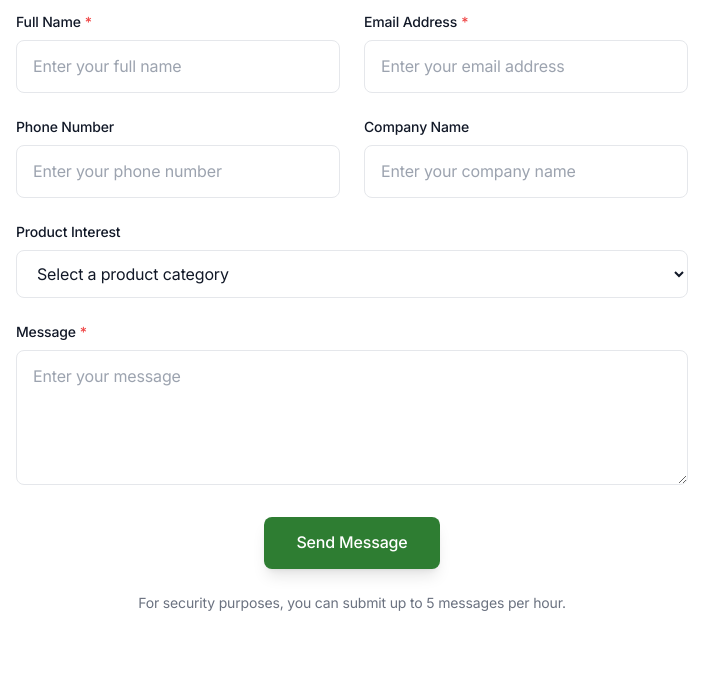
Scenario: ContactForm Component › validates required fields on submit
Click the button "Send Message" at coordinates (352, 543), box 264,517 -> 440,568
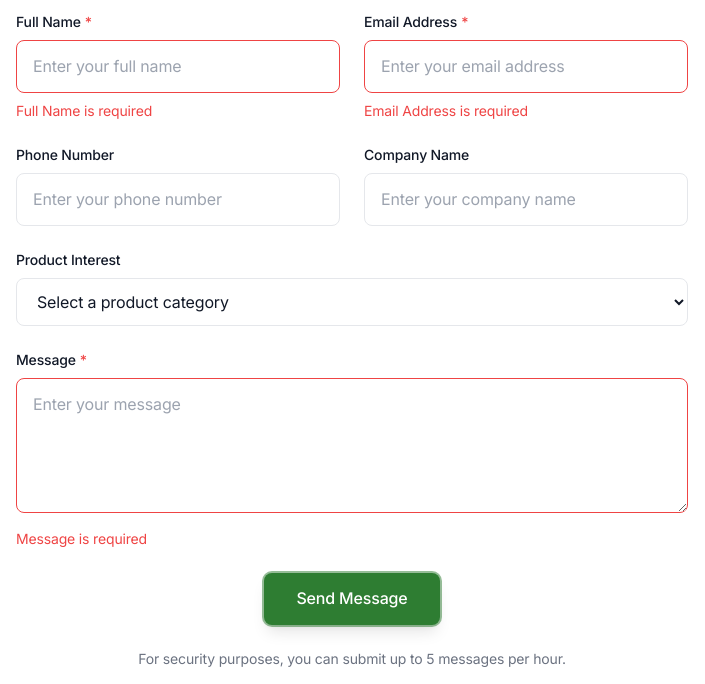
Expected: the text "Full Name is required" is shown, 16,102 -> 152,119
Expected: the text "Email Address is required" is shown, 364,102 -> 528,119
Expected: the text "Message is required" is shown, 16,530 -> 147,547
